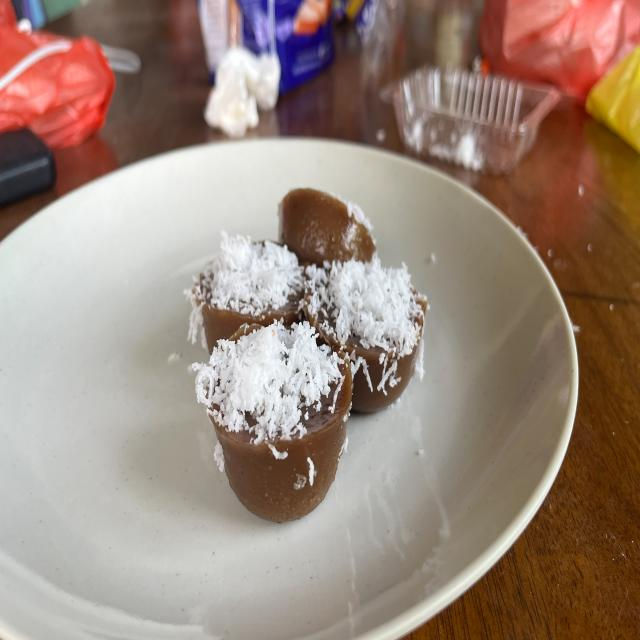Kuih lompang: (192, 322, 352, 522), (301, 256, 426, 413), (185, 231, 305, 353), (279, 189, 375, 267)
